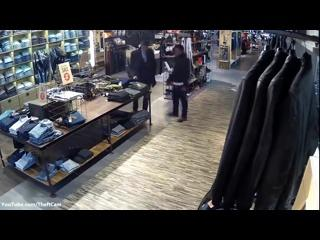Normal: (128, 40, 157, 113), (166, 44, 190, 122)
